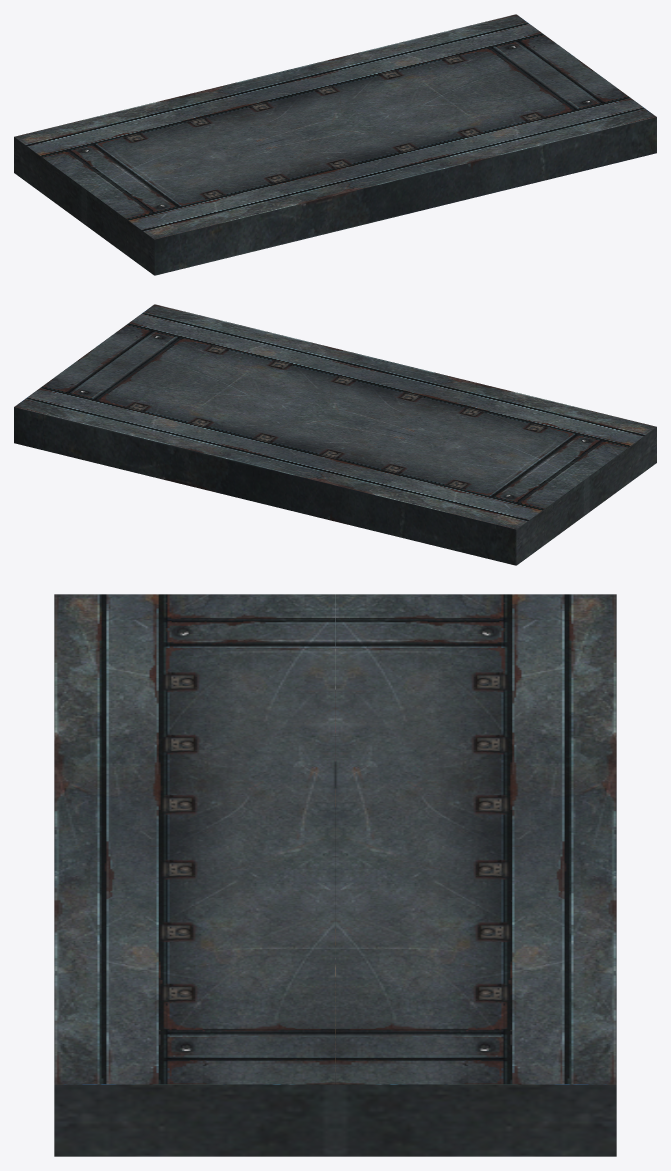
The model's file is fb_suidao_tiegui02.FBX.
3 views of the same model, one above another, from view 1: azimuth 30°, elevation 25°; view 2: azimuth 150°, elevation 25°; view 3: azimuth 270°, elevation 25° (orthographic). The views are drawn at different scales.
Visible parts, largest first — view 1: fb_suidao_tiegui02; view 2: fb_suidao_tiegui02; view 3: fb_suidao_tiegui02.
Part boxes in pixels (x1,y1,x2,y2): fb_suidao_tiegui02: [14, 14, 656, 275]; fb_suidao_tiegui02: [14, 304, 656, 565]; fb_suidao_tiegui02: [54, 594, 616, 1156].
Size of the model in its own units: 1304 by 89.57 by 632.
